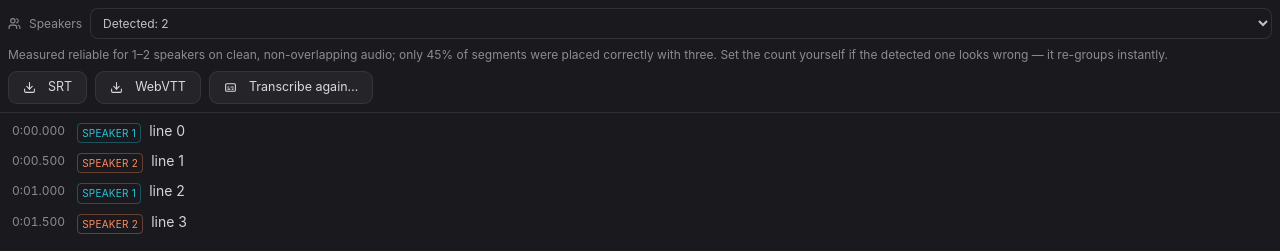
Test: TranscriptPanel — the speaker-count control › re-clusters to a forced count without another transcription run
Select "1 speaker" in the dropdown with test id "transcript-speaker-count" at (681, 24), box [90,8,1272,39]
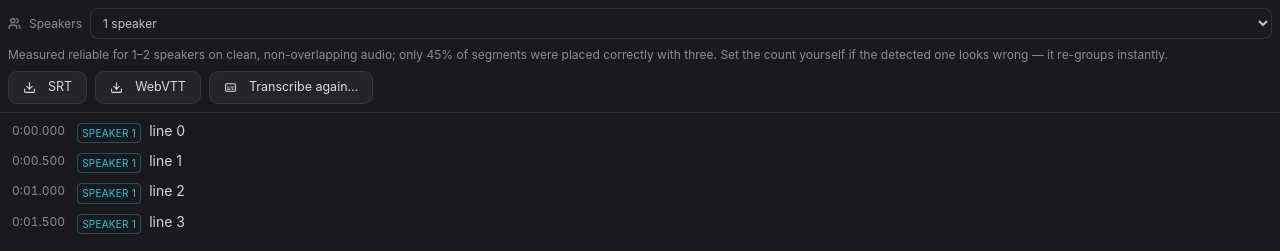
Expected: the text with test id "transcript-speaker" next to "line 1" reads "Speaker 1", [82,157,136,169]
